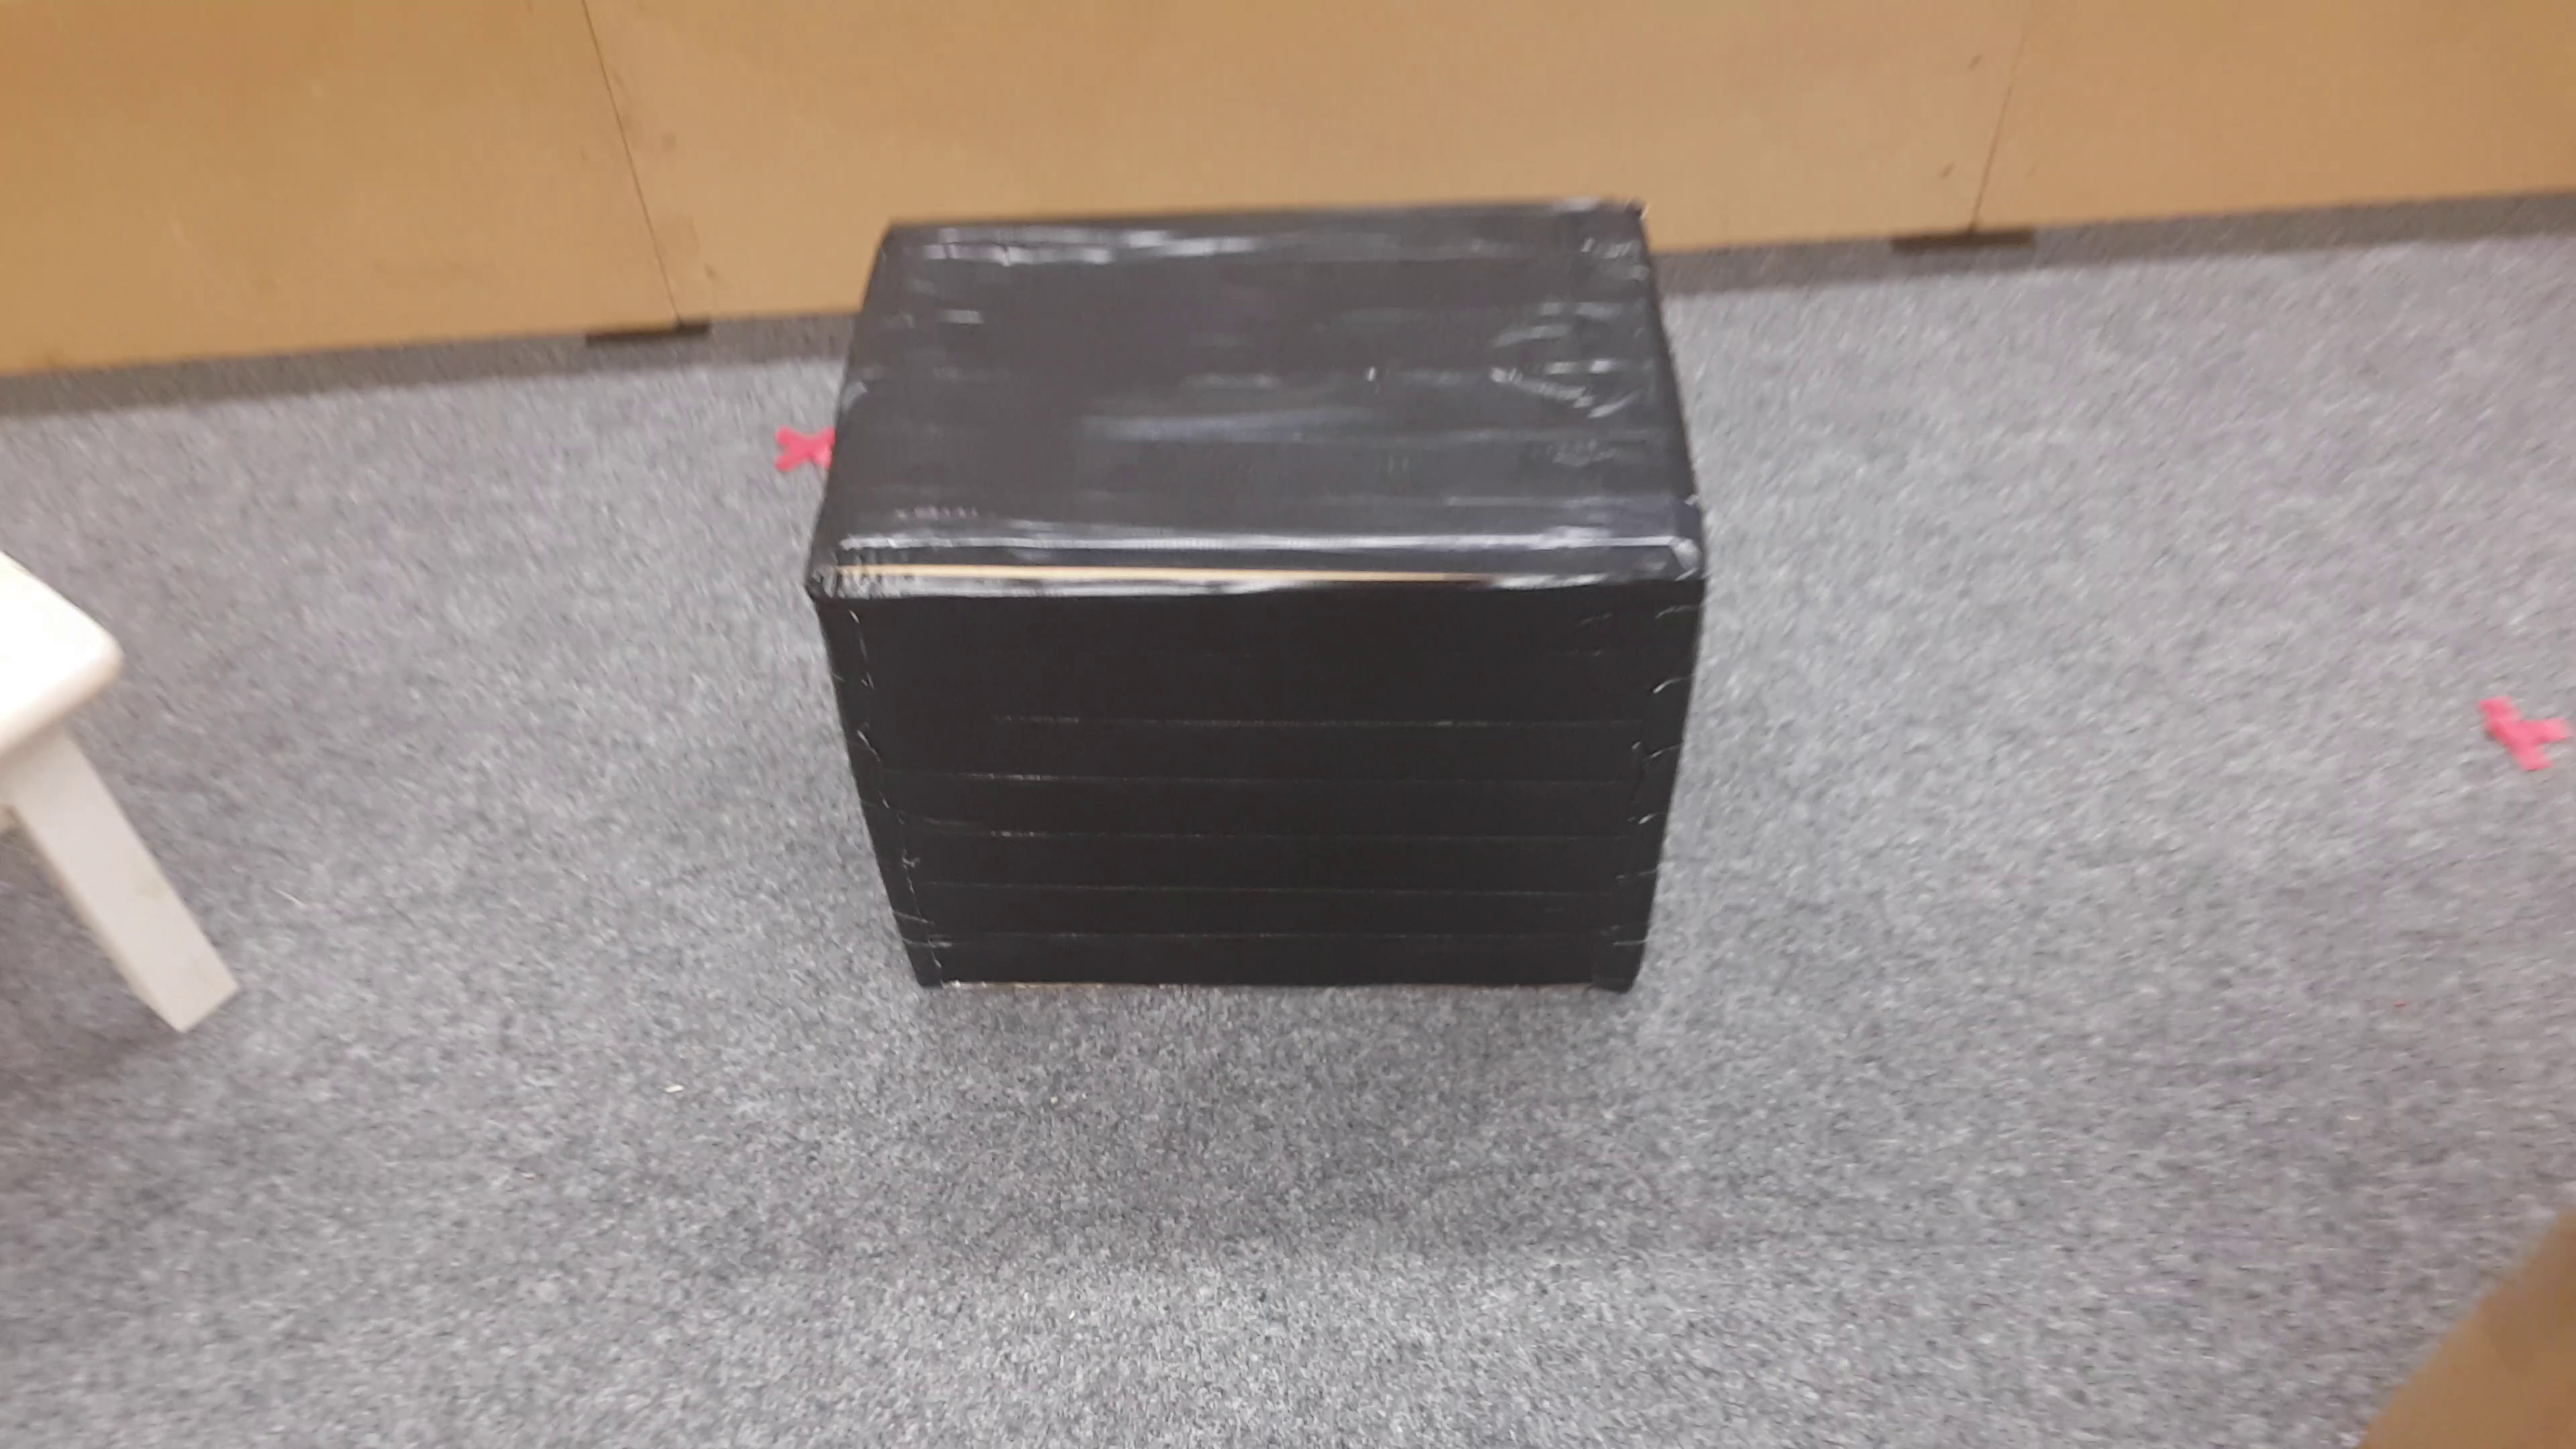push: (809, 209, 1716, 1024)
